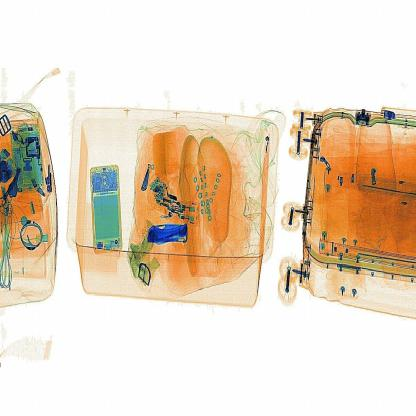knife: (142, 218, 194, 244)
